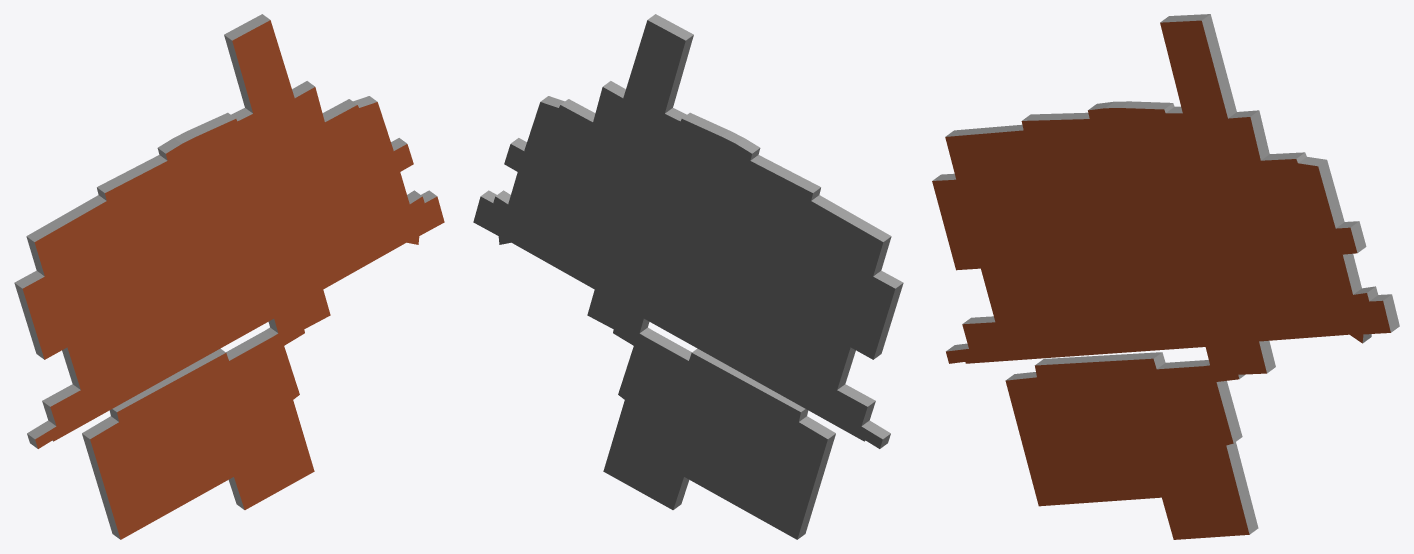
The model's file is construction_0111_assumed_A_Grande_construcao_h6m.obj.
3 views of the same model, side by side, from view 1: azimuth 30°, elevation 25°; view 2: azimuth 150°, elevation 25°; view 3: azimuth 330°, elevation 25° (orthographic). The views are drawn at different scales.
Parts seen in each view (by area): view 1: construction_0111_assumed_A_Grande_construcao; view 2: construction_0111_assumed_A_Grande_construcao; view 3: construction_0111_assumed_A_Grande_construcao.
Boxes of the visible parts, left/top/right/bottom form: construction_0111_assumed_A_Grande_construcao: left=14, top=14, right=444, bottom=539; construction_0111_assumed_A_Grande_construcao: left=473, top=14, right=903, bottom=539; construction_0111_assumed_A_Grande_construcao: left=932, top=14, right=1399, bottom=539.
Bounding box in the file's own units: 178 × 195 × 6.
